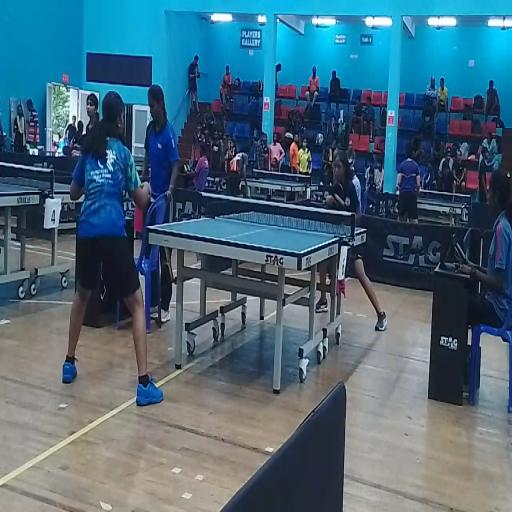ball: (335, 193, 345, 207)
